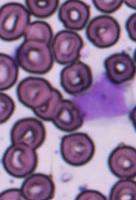M: (73, 72, 128, 123)
